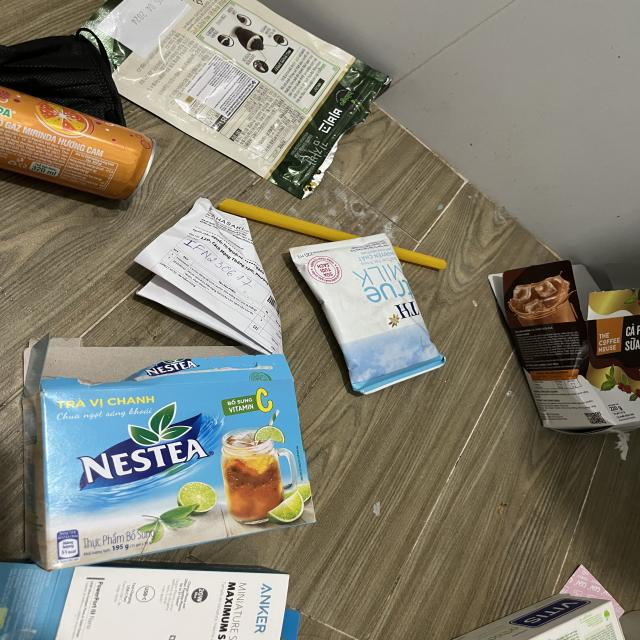can: (0, 86, 155, 198)
cardboard box: (21, 336, 315, 574), (491, 260, 640, 436), (0, 563, 303, 640)
drinking straw: (215, 199, 447, 271)
mask: (0, 28, 129, 128)
milk box: (288, 231, 446, 400)
paper: (134, 197, 282, 354)
snack package: (76, 0, 391, 202)
